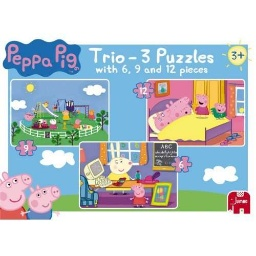Peppa: (1, 170, 33, 219)
